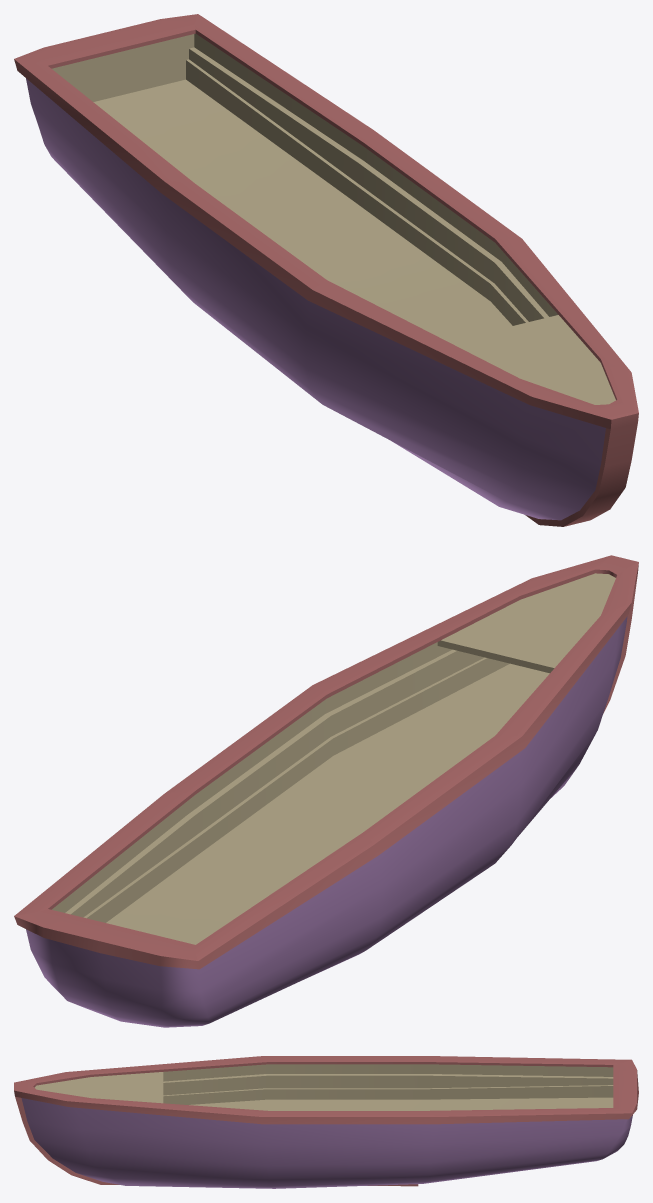
Rendered from Boat_Body.fbx.
3 views of the same model, one above another, from view 1: azimuth 30°, elevation 25°; view 2: azimuth 150°, elevation 25°; view 3: azimuth 270°, elevation 25° (orthographic). The views are drawn at different scales.
Visible parts, largest first — view 1: Boat_Body; view 2: Boat_Body; view 3: Boat_Body.
Boxes of the visible parts, <box> form: Boat_Body: <box>14,14,638,526</box>; Boat_Body: <box>14,555,638,1027</box>; Boat_Body: <box>14,1056,638,1188</box>.
Bounding box in the file's own units: 3.86 × 2.73 × 16.15.
